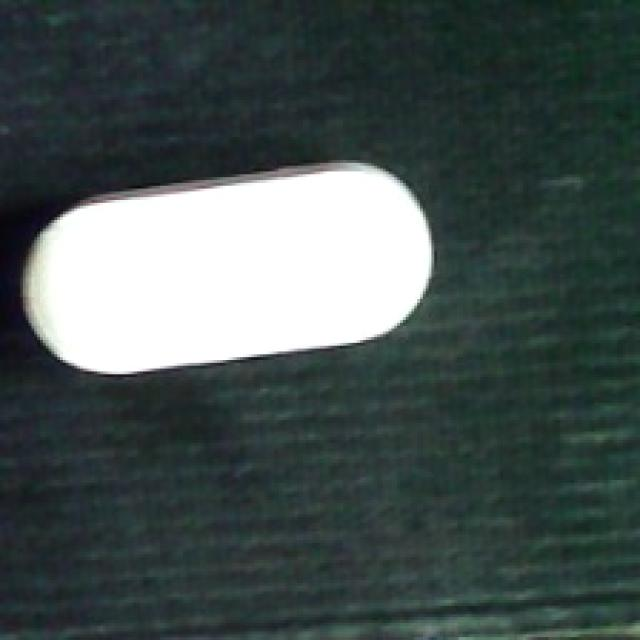no-defect: (17, 154, 437, 380)
